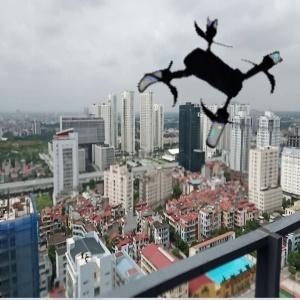drone: (136, 12, 286, 162)
